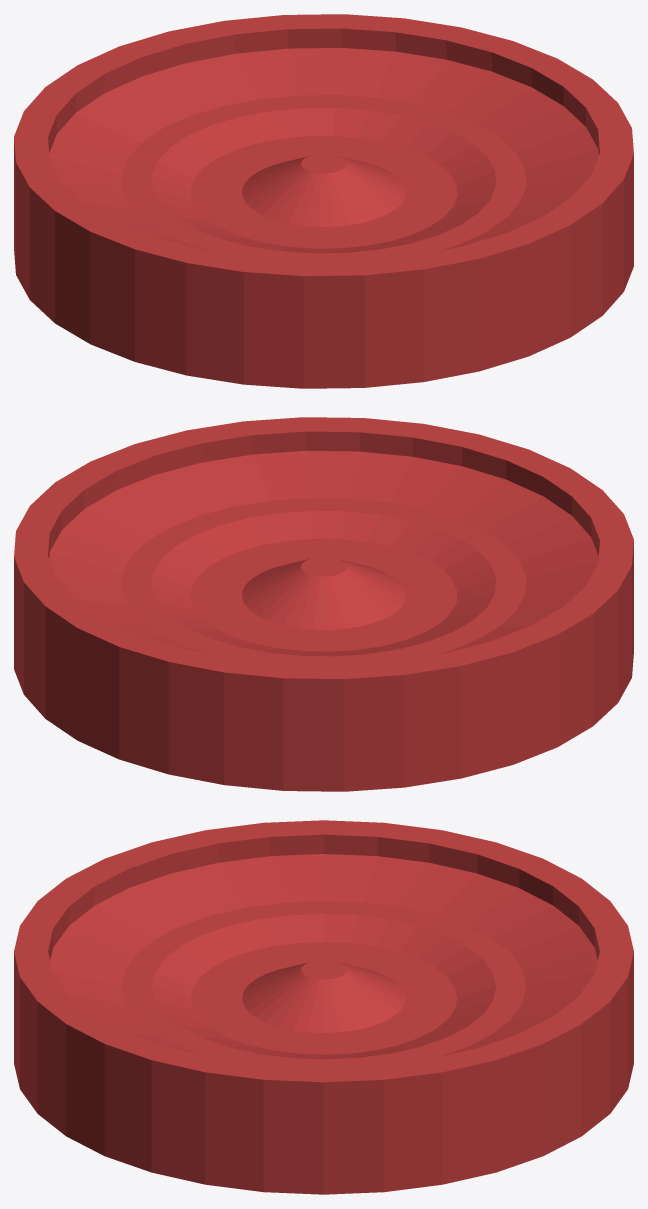
Rendered from CheckersPieceRed.fbx.
The picture shows the model from 3 angles, top to bottom: view 1: azimuth 30°, elevation 25°; view 2: azimuth 150°, elevation 25°; view 3: azimuth 270°, elevation 25°; orthographic projection.
Parts seen in each view (by area): view 1: Checkers Piece (Red); view 2: Checkers Piece (Red); view 3: Checkers Piece (Red).
Part boxes in pixels (<box>): Checkers Piece (Red): <box>14,14,633,388</box>; Checkers Piece (Red): <box>14,417,633,791</box>; Checkers Piece (Red): <box>14,820,633,1194</box>.
Bounding box in the file's own units: 200 × 40 × 200.
